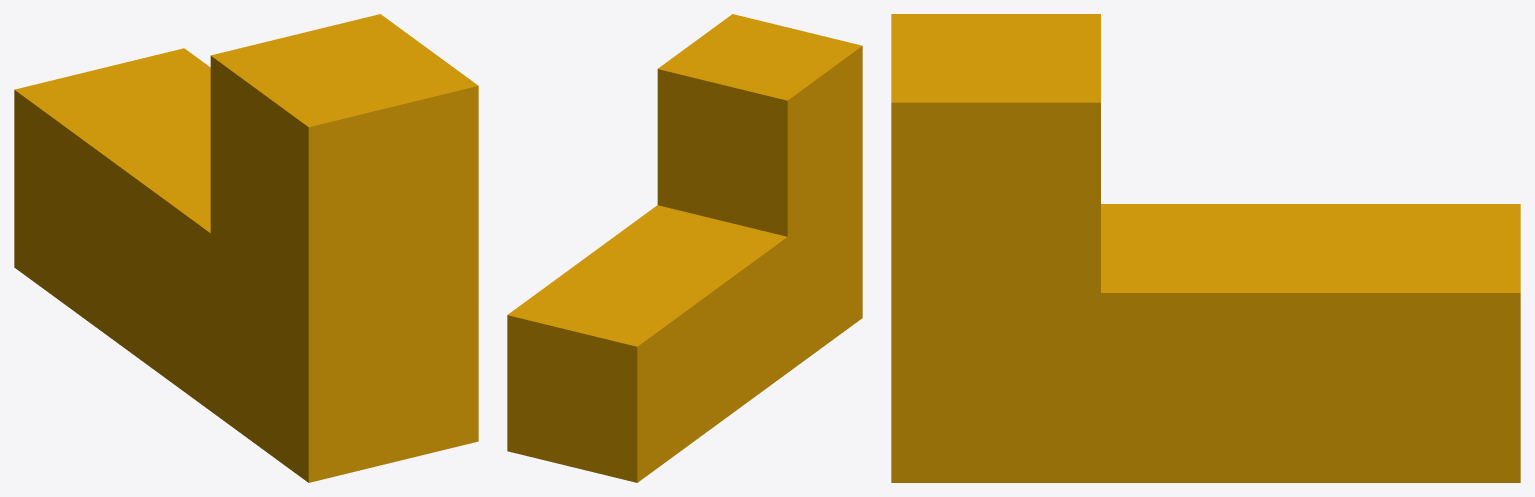
File: tetris-orange.fbx
The picture shows the model from 3 angles, left to right: view 1: azimuth 30°, elevation 25°; view 2: azimuth 150°, elevation 25°; view 3: azimuth 270°, elevation 25°; orthographic projection. The views are drawn at different scales.
Visible parts, largest first — view 1: cube4, cube1, cube3, cube2; view 2: cube3, cube4, cube2, cube1; view 3: cube2, cube3, cube4, cube1.
Part boxes in pixels (x1=…): cube4: x1=210, y1=14, x2=478, y2=304; cube1: x1=210, y1=234, x2=478, y2=482; cube3: x1=14, y1=48, x2=210, y2=338; cube2: x1=112, y1=137, x2=210, y2=410; cube3: x1=507, y1=260, x2=712, y2=482; cube4: x1=657, y1=14, x2=862, y2=236; cube2: x1=583, y1=205, x2=787, y2=427; cube1: x1=787, y1=182, x2=862, y2=372; cube2: x1=1101, y1=204, x2=1310, y2=482; cube3: x1=1311, y1=204, x2=1520, y2=482; cube4: x1=891, y1=14, x2=1100, y2=292; cube1: x1=891, y1=293, x2=1100, y2=482.
Bounding box in the file's own units: 0.5 × 1 × 1.5.
